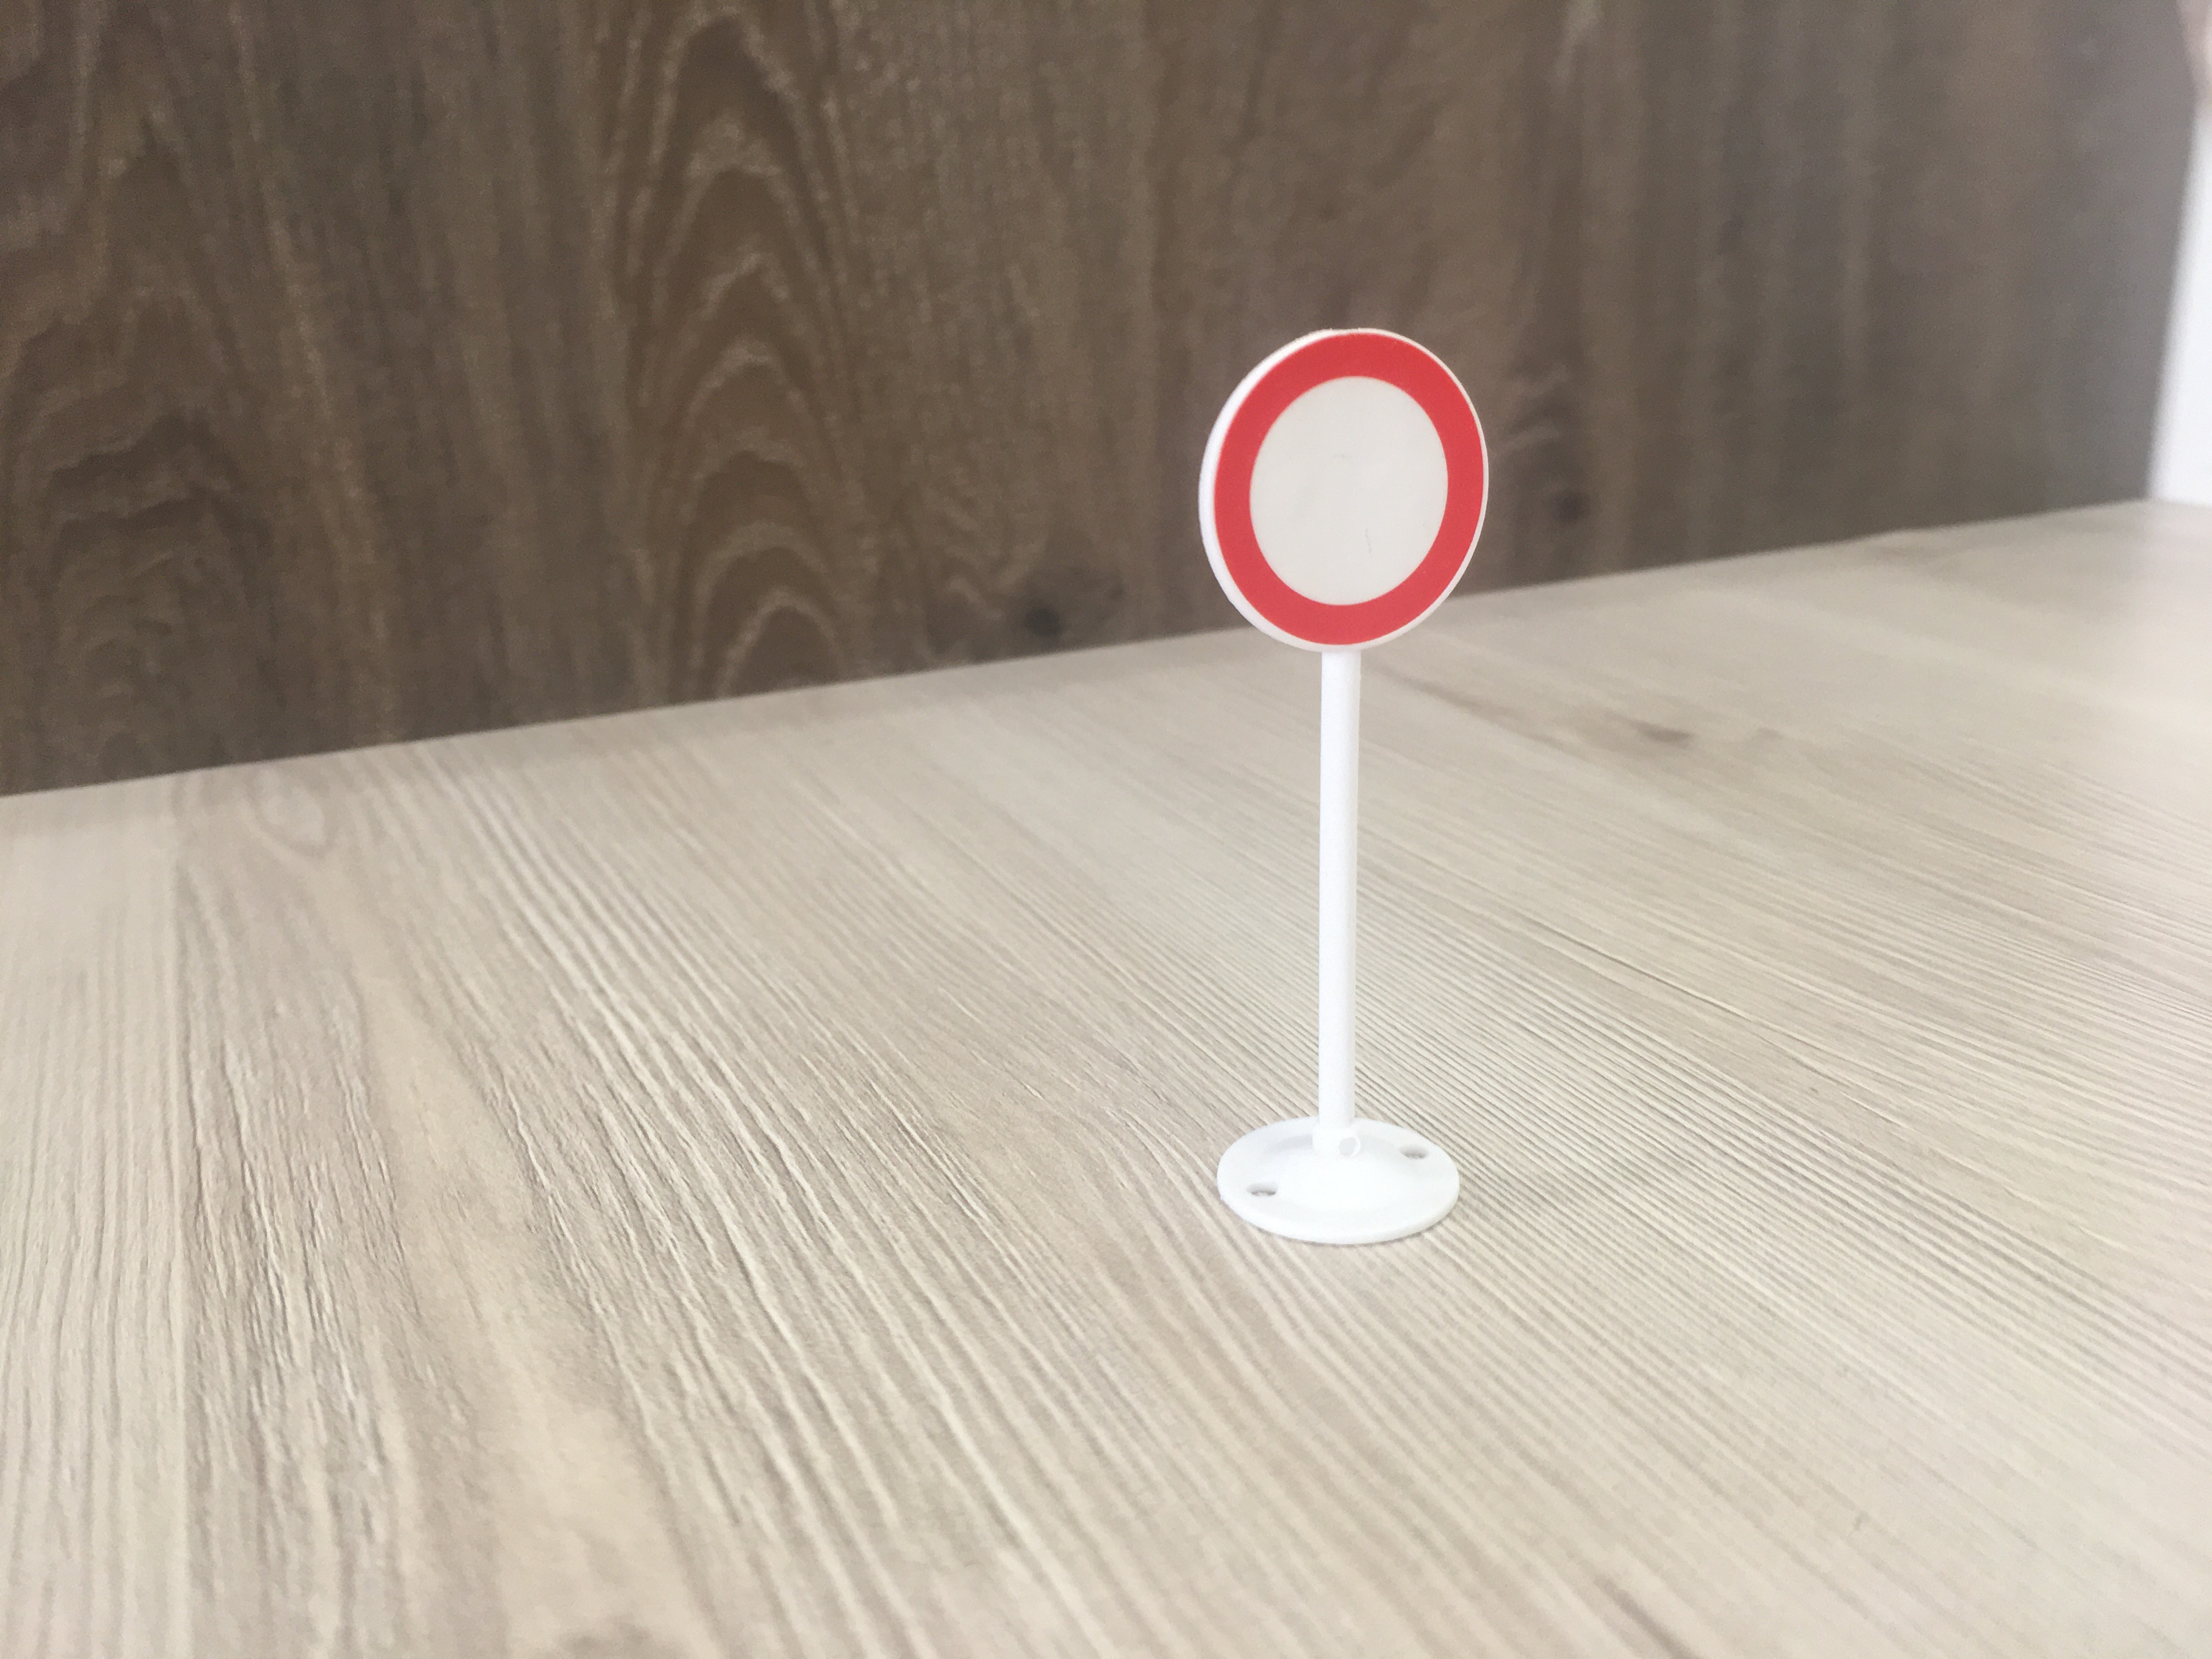noDrive: (1197, 329, 1494, 652)
